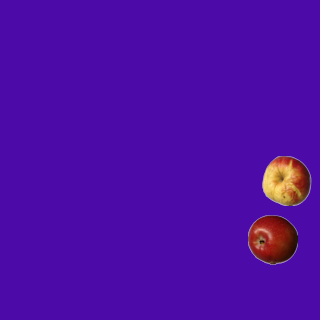Apple Braeburn: (247, 214, 297, 264)
Apple Red Yellow 1: (261, 155, 311, 205)
